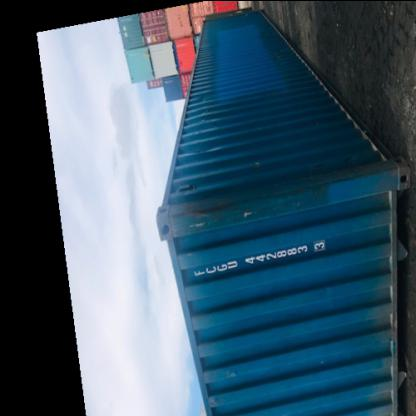Damage: (173, 190, 260, 232), (189, 90, 222, 152), (216, 366, 240, 380), (250, 154, 266, 170)
